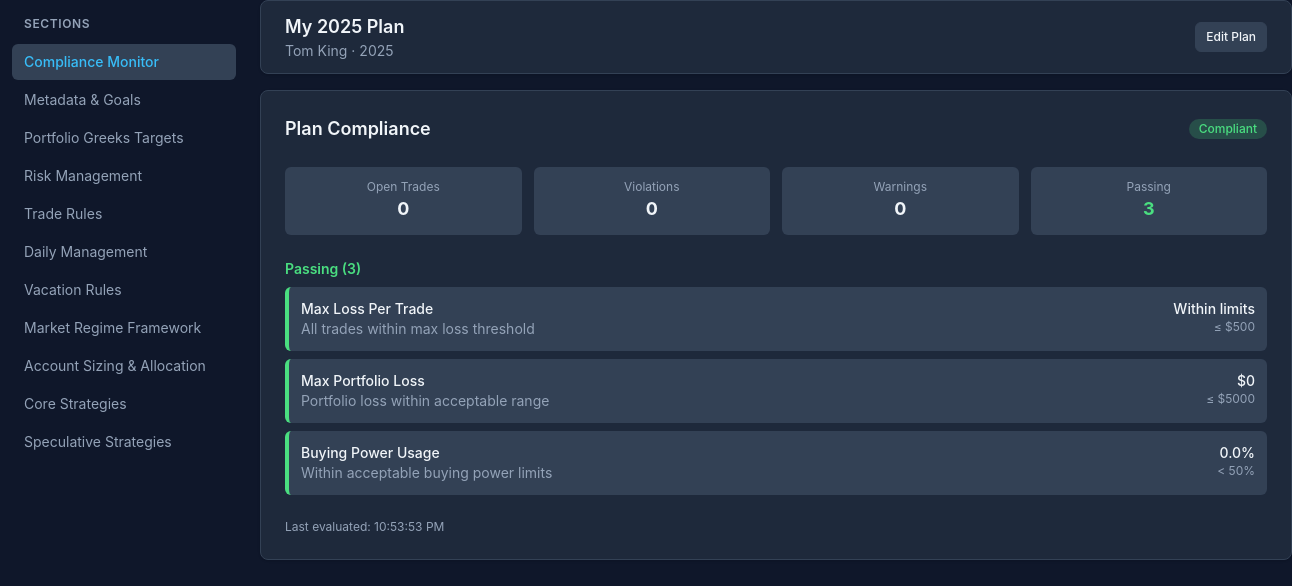
PlanViewer › shows position limits in Risk Management
This screenshot has width=1292, height=586.
Click the button "Risk Management": click(124, 176) [12,158,236,194]
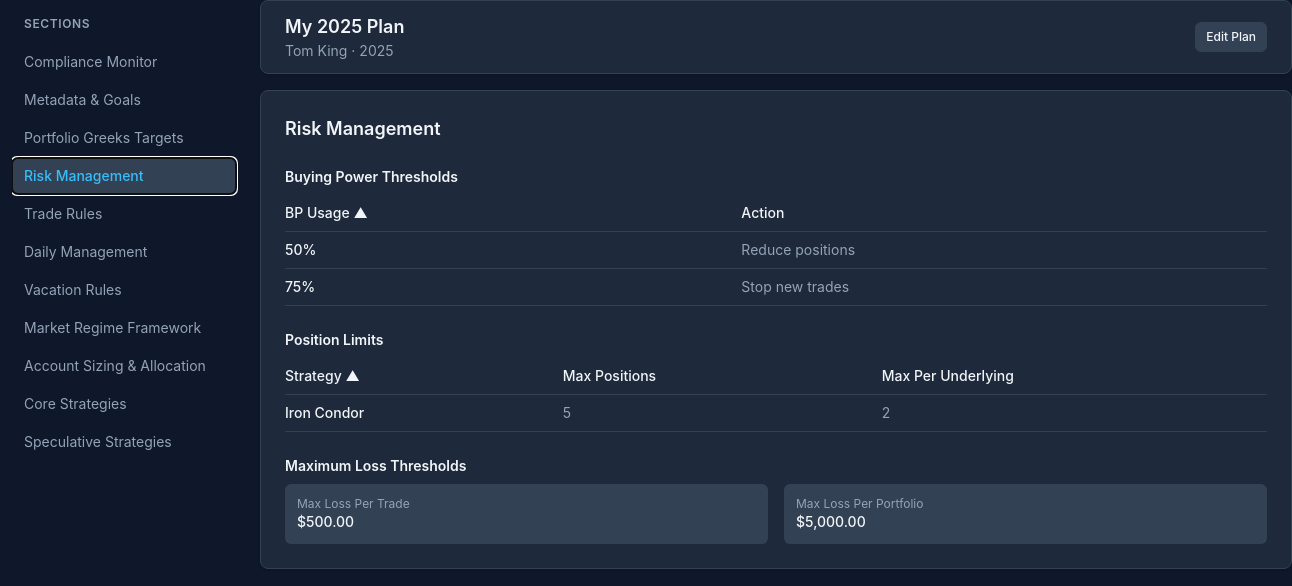
Now the text "Iron Condor" is shown, box [285,394,563,432]
